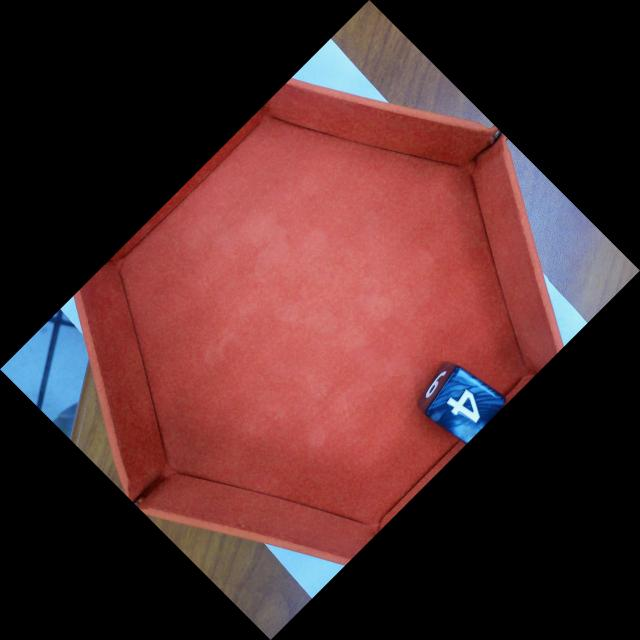dice: (421, 364, 509, 446)
